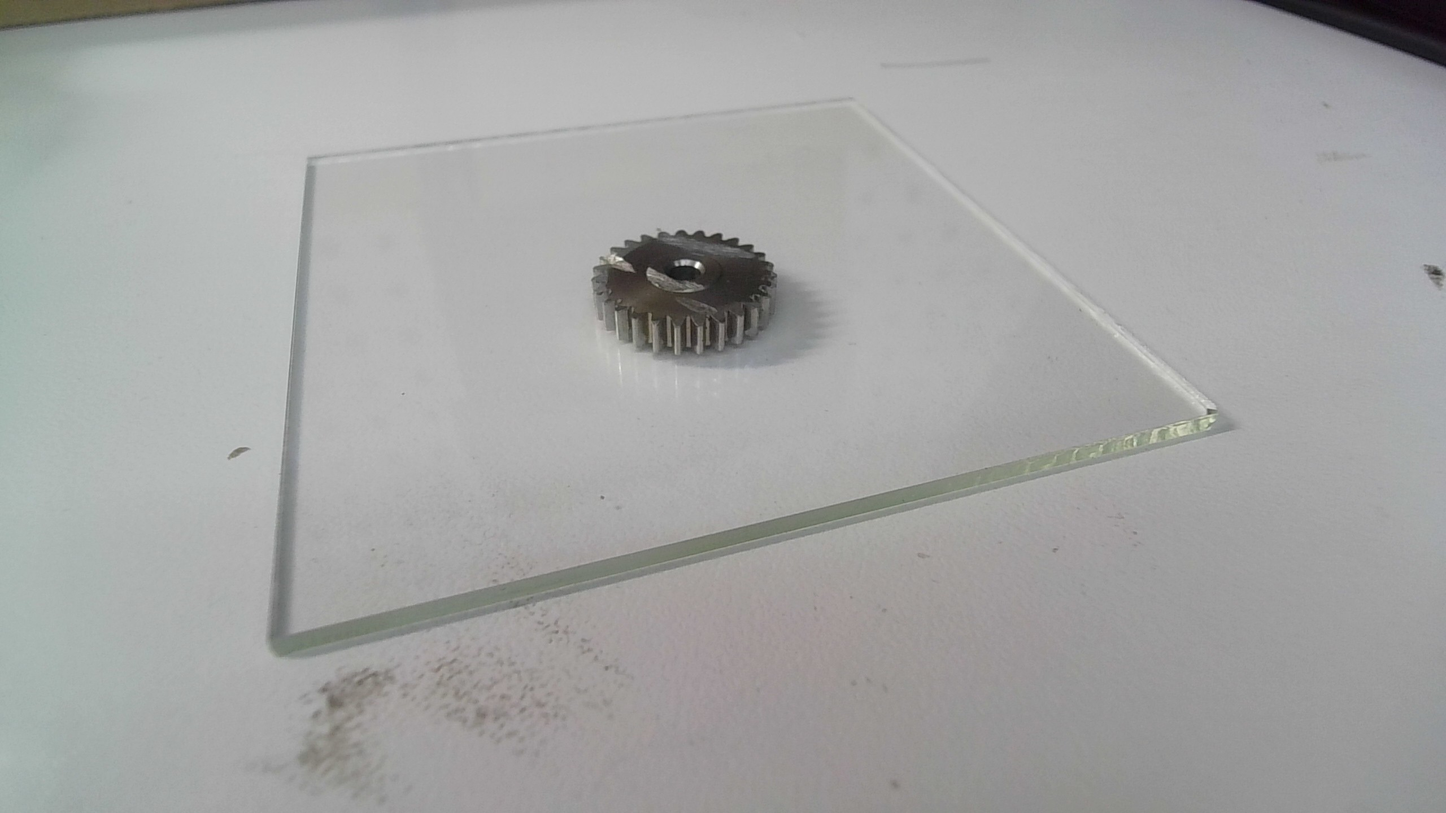gear: (588, 228, 779, 359)
